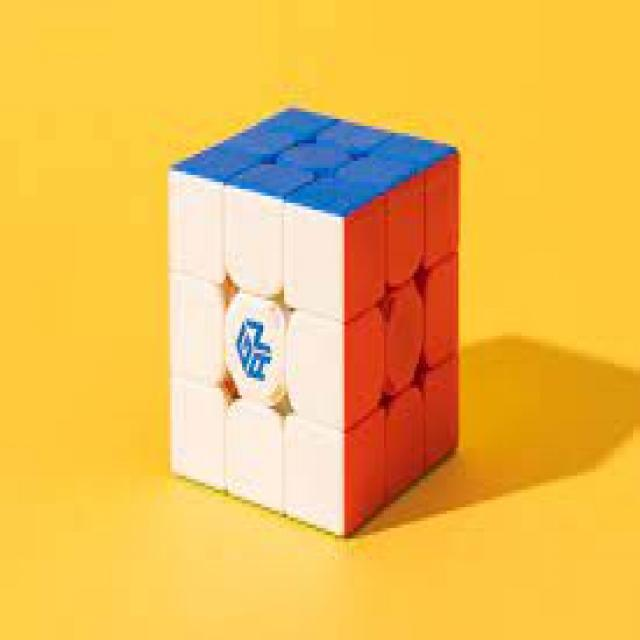Rub: (154, 105, 468, 544)
